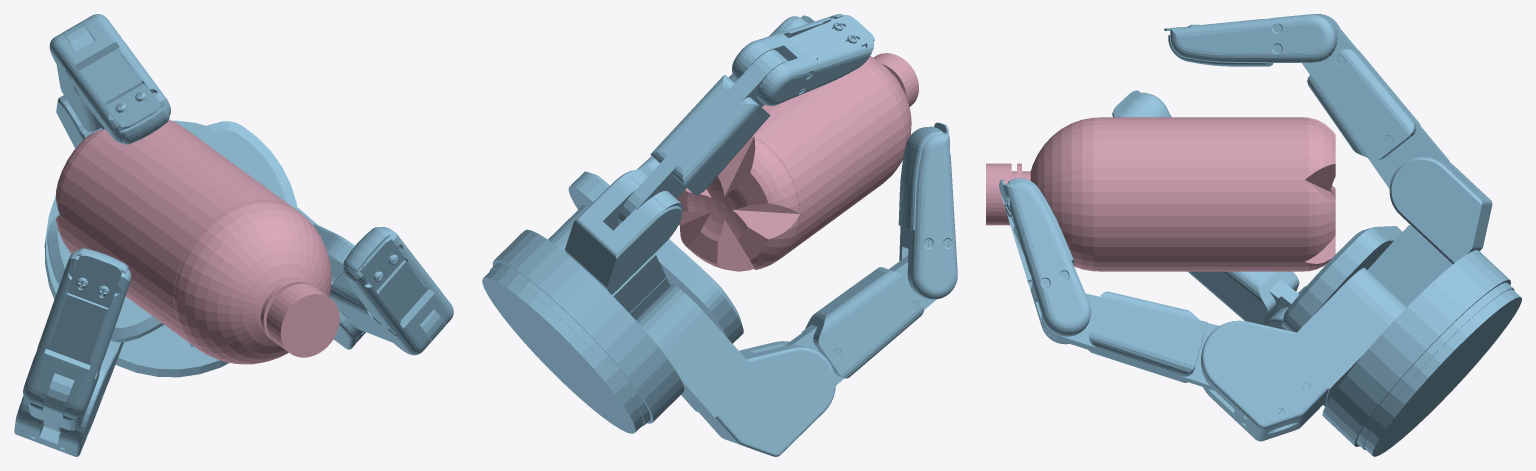
3 renders of one model, left to right at view 1: azimuth 30°, elevation 25°; view 2: azimuth 150°, elevation 25°; view 3: azimuth 270°, elevation 25°, orthographic. The views are drawn at different scales.
Parts seen in each view (by area): view 1: world, water_bottle.stl; view 2: world, water_bottle.stl; view 3: world, water_bottle.stl.
Part boxes in pixels (x1=…): world: x1=14, y1=14, x2=453, y2=456; water_bottle.stl: x1=55, y1=119, x2=339, y2=364; world: x1=482, y1=14, x2=957, y2=456; water_bottle.stl: x1=677, y1=53, x2=918, y2=271; world: x1=999, y1=14, x2=1521, y2=456; water_bottle.stl: x1=986, y1=117, x2=1335, y2=271.
Bounding box in the file's own units: 0.1682 × 0.1727 × 0.2093.
